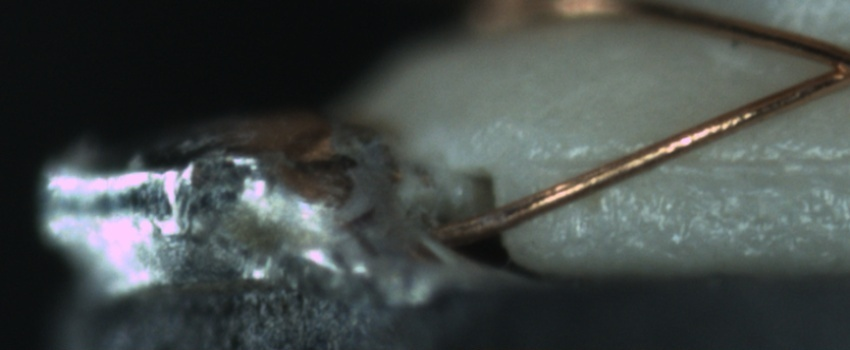CL: (799, 35, 849, 92)
DL: (541, 133, 850, 196)
